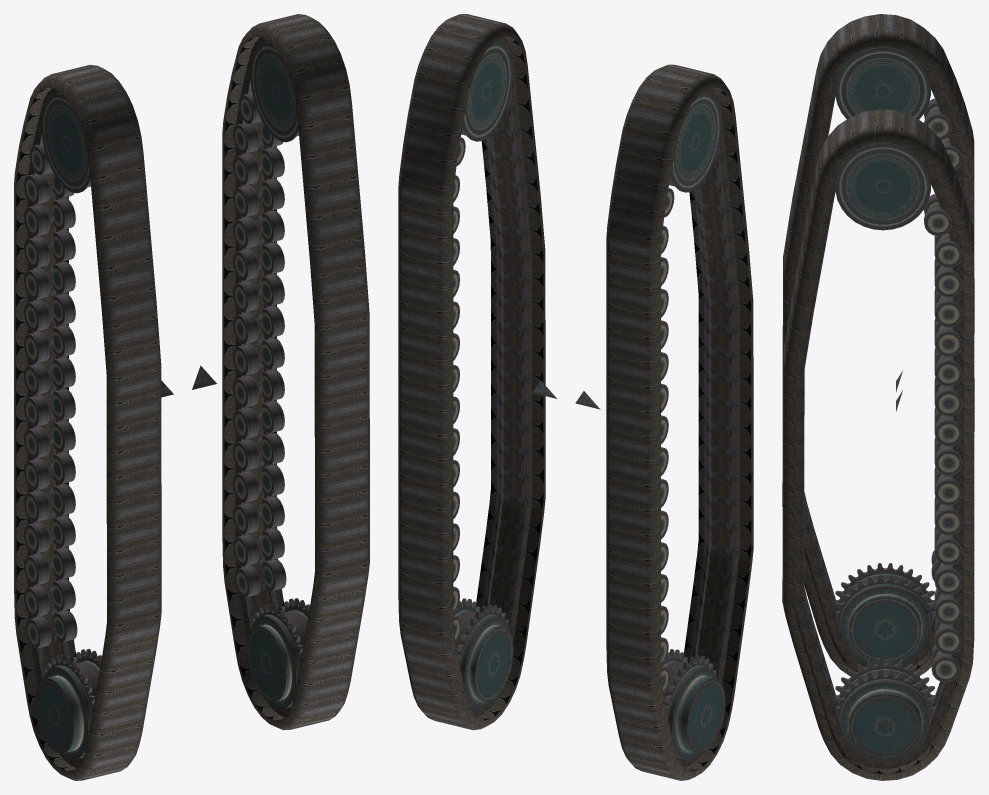
File: Chassis.glb
The picture shows the model from 3 angles, left to right: view 1: azimuth 30°, elevation 25°; view 2: azimuth 150°, elevation 25°; view 3: azimuth 270°, elevation 25°; orthographic projection. The views are drawn at different scales.
Parts seen in each view (by area): view 1: set_0_group_0, set_1_group_0, set_2_group_0, set_3_group_0; view 2: set_0_group_0, set_1_group_0, set_2_group_0, set_3_group_0; view 3: set_0_group_0, set_3_group_0, set_1_group_0, set_2_group_0.
Boxes of the visible parts, x1,y1,x2,y2 form: set_0_group_0: (222, 14, 369, 730); set_1_group_0: (14, 65, 161, 780); set_2_group_0: (24, 93, 173, 759); set_3_group_0: (192, 42, 309, 709); set_0_group_0: (398, 14, 545, 730); set_1_group_0: (606, 64, 753, 780); set_2_group_0: (575, 92, 725, 759); set_3_group_0: (453, 41, 556, 709); set_0_group_0: (782, 109, 974, 780); set_3_group_0: (835, 142, 962, 762); set_1_group_0: (782, 14, 974, 675); set_2_group_0: (835, 47, 962, 664).
Bounding box in the file's own units: 2.55 × 6.35 × 1.69.
4 materials, 4 textured.
